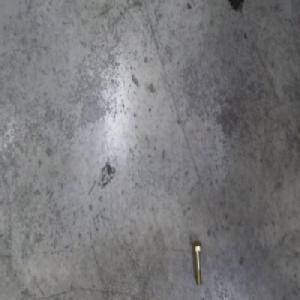Bolt: (191, 239, 203, 287)
